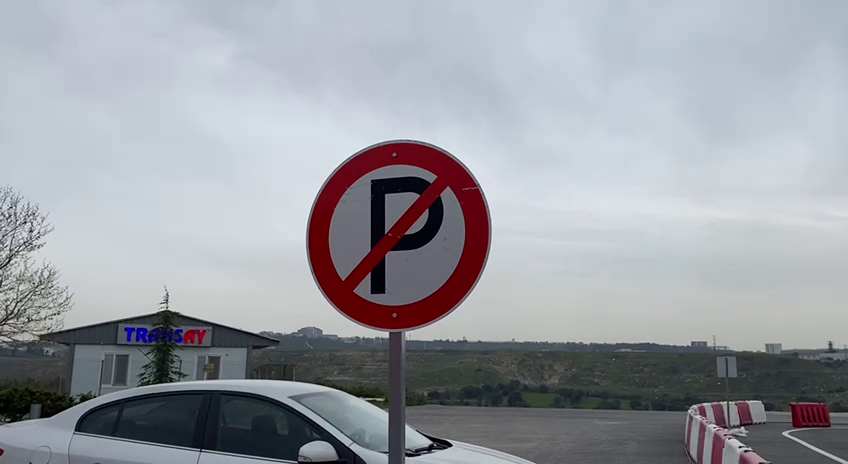noparking: (302, 135, 495, 331)
